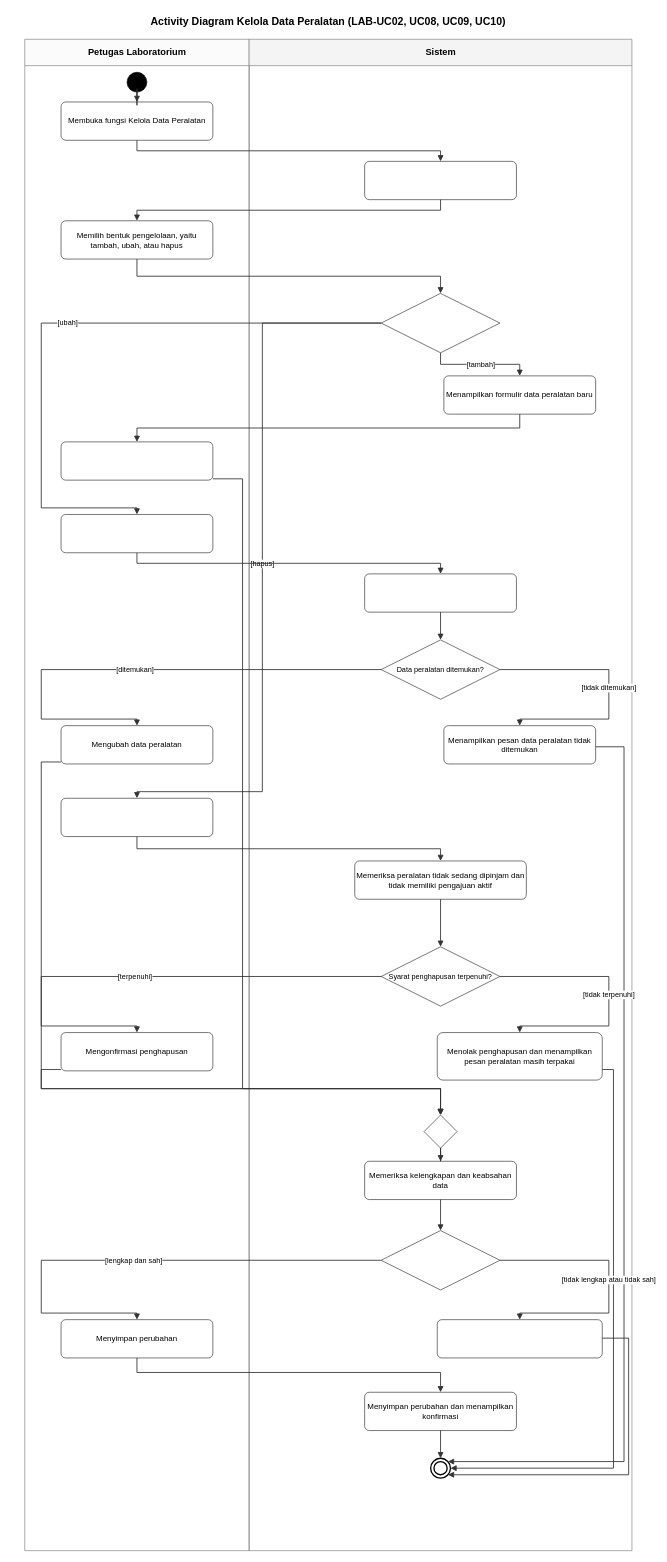
Image size: 667x1562. Some labels were removed from this diagram. Here are the shapes that lost their labels. From the top down, the centre of each, then its label:
the point at 440,180: Menampilkan daftar data peralatan
the point at 440,323: Bentuk pengelolaan yang dipilih?
the point at 136,460: Mengisi data peralatan baru
the point at 136,533: Memilih data peralatan yang akan diubah
the point at 440,592: Menampilkan data peralatan saat ini
the point at 136,817: Memilih data peralatan yang akan dihapus
the point at 440,1260: Data lengkap dan sah?
the point at 519,1338: Menolak penyimpanan dan menampilkan pesan kesalahan data
